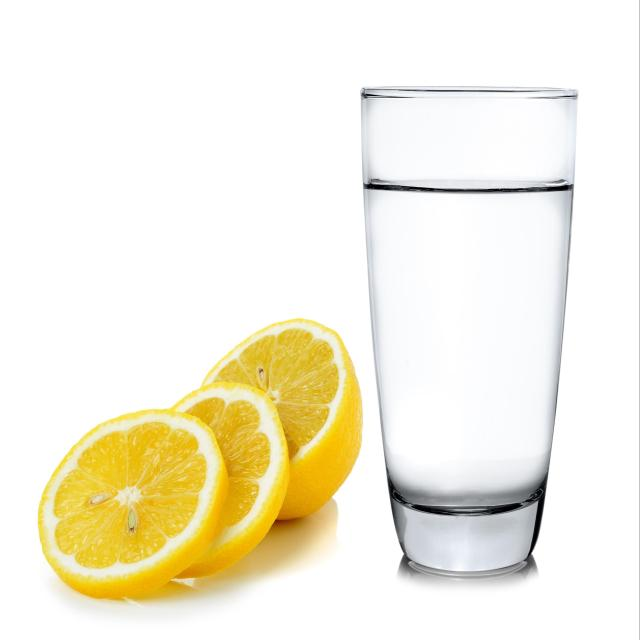lemon: (33, 406, 231, 602)
